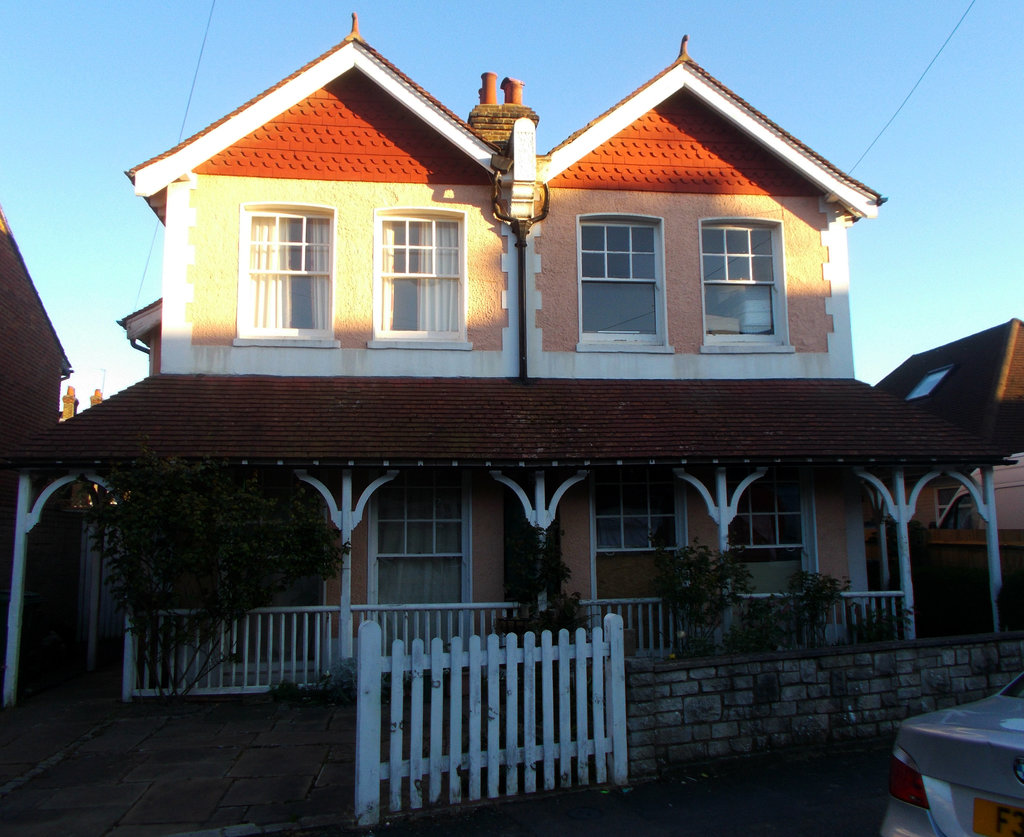mobil: (877, 654, 1024, 837)
